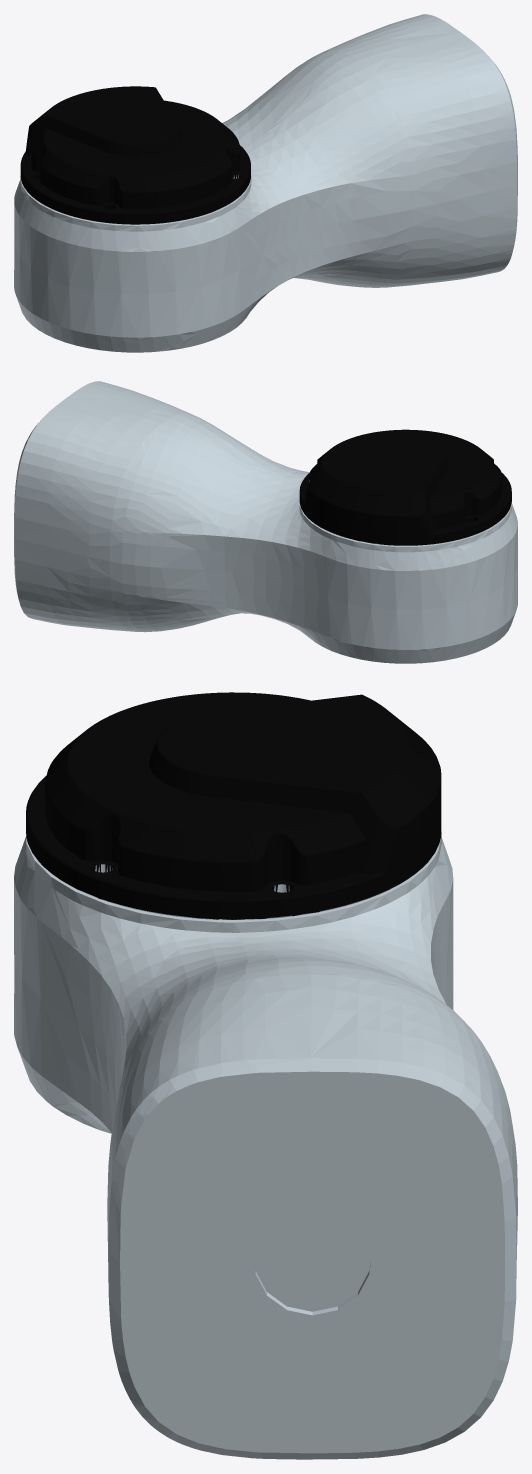
Rendered from right_elbow_link.dae.
3 renders of one model, top to bottom at view 1: azimuth 30°, elevation 25°; view 2: azimuth 150°, elevation 25°; view 3: azimuth 270°, elevation 25°, orthographic. The views are drawn at different scales.
Visible parts, largest first — view 1: right_elbow_link; view 2: right_elbow_link; view 3: right_elbow_link.
Part boxes in pixels (<box>): right_elbow_link: <box>14,14,517,352</box>; right_elbow_link: <box>14,381,517,663</box>; right_elbow_link: <box>14,692,517,1459</box>.
Size of the model in its own units: 0.1683 by 0.0805 by 0.0893.
